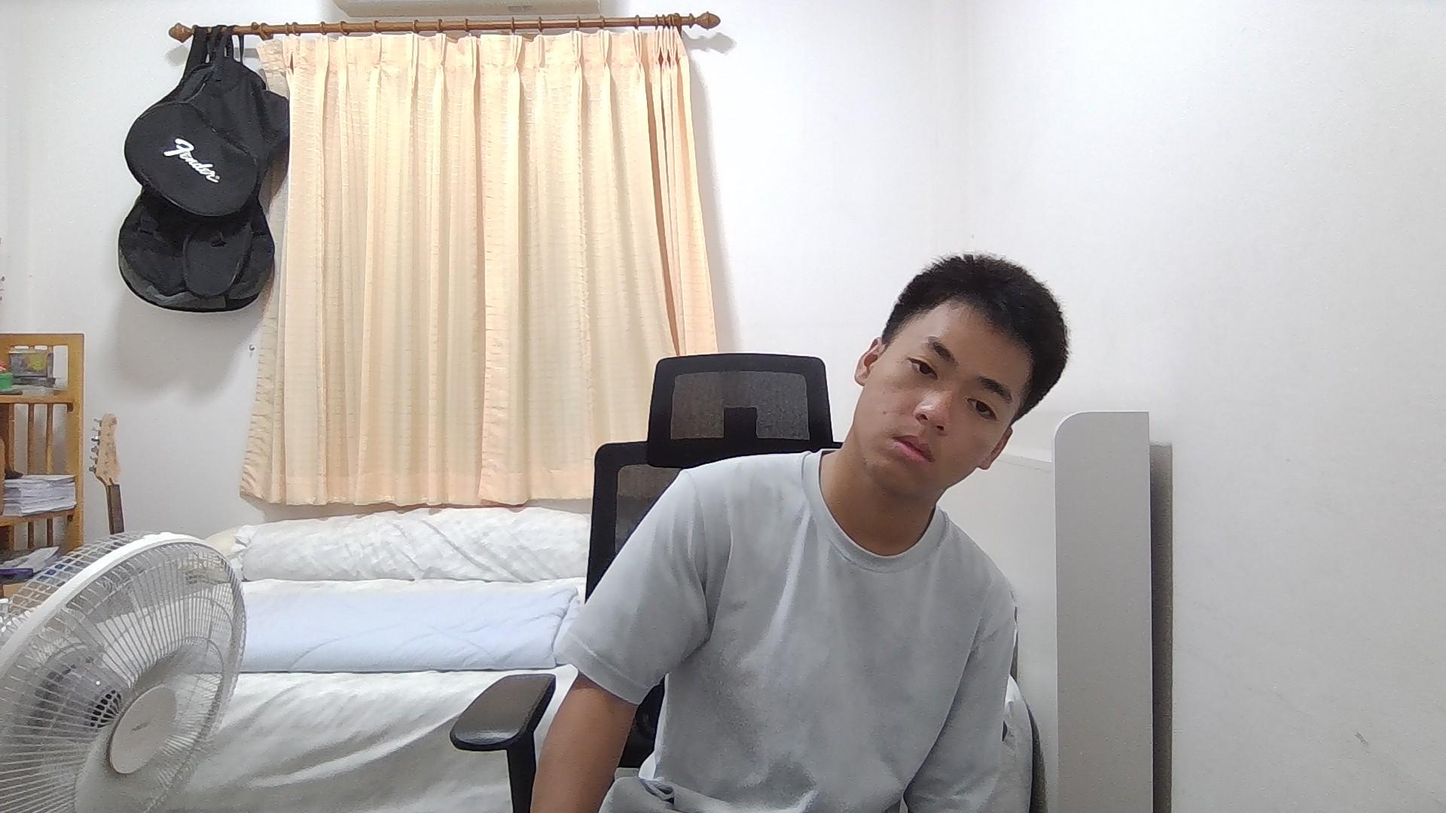BadPosture: (532, 255, 1066, 812)
